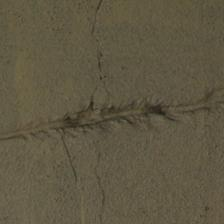Crack: (26, 0, 119, 108), (30, 69, 78, 136), (89, 27, 131, 85), (204, 11, 224, 35)
